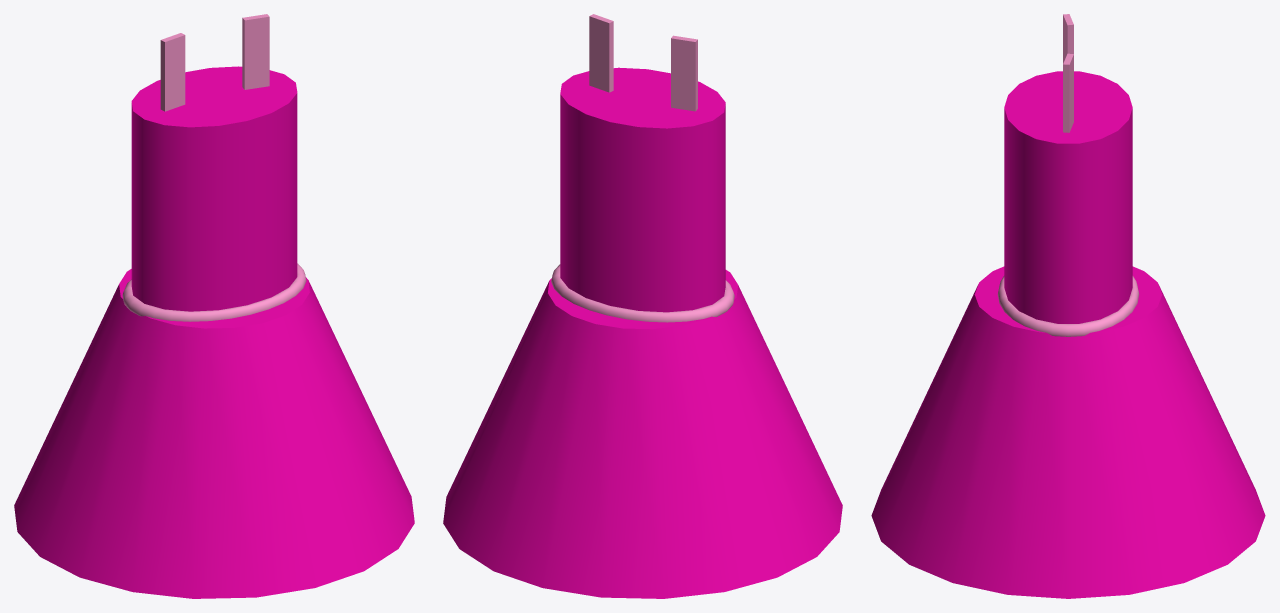
Rendered from VM-DAM-EXT165.glb.
3 renders of one model, left to right at view 1: azimuth 30°, elevation 25°; view 2: azimuth 150°, elevation 25°; view 3: azimuth 270°, elevation 25°, orthographic. The views are drawn at different scales.
Parts seen in each view (by area): view 1: Vestido Corto; view 2: Vestido Corto; view 3: Vestido Corto.
Boxes of the visible parts, left/top/right/bottom form: Vestido Corto: left=14, top=14, right=414, bottom=598; Vestido Corto: left=443, top=14, right=842, bottom=598; Vestido Corto: left=871, top=14, right=1265, bottom=598.
Bounding box in the file's own units: 0.8148 × 1.09 × 0.8148.
